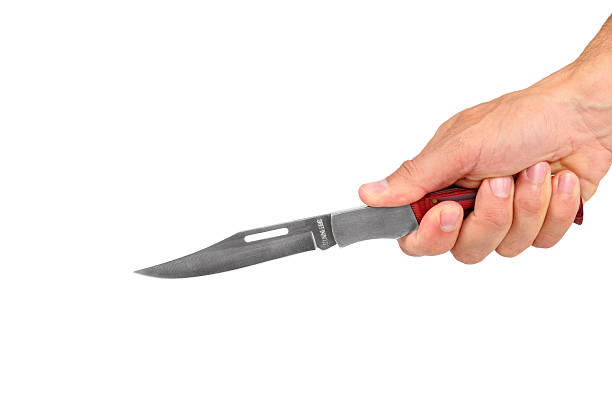knife: (132, 173, 586, 281)
